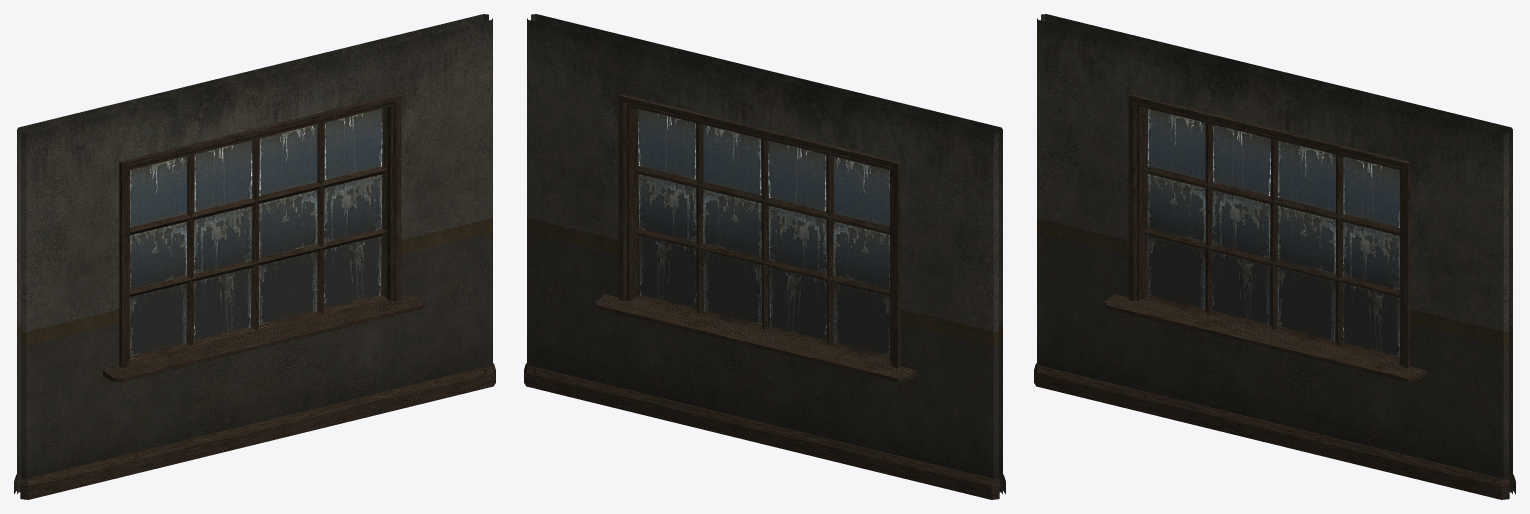
Rendered from window_2_double.glb.
3 views of the same model, side by side, from view 1: azimuth 30°, elevation 25°; view 2: azimuth 150°, elevation 25°; view 3: azimuth 330°, elevation 25° (orthographic).
Visible parts, largest first — view 1: window_2_double; view 2: window_2_double; view 3: window_2_double.
Boxes of the visible parts, bbox=[...] form: window_2_double: bbox=[14, 14, 495, 499]; window_2_double: bbox=[524, 14, 1005, 499]; window_2_double: bbox=[1034, 14, 1515, 499].
Size of the model in its own units: 4.09 by 3 by 0.52.
4 materials, 4 textured.
